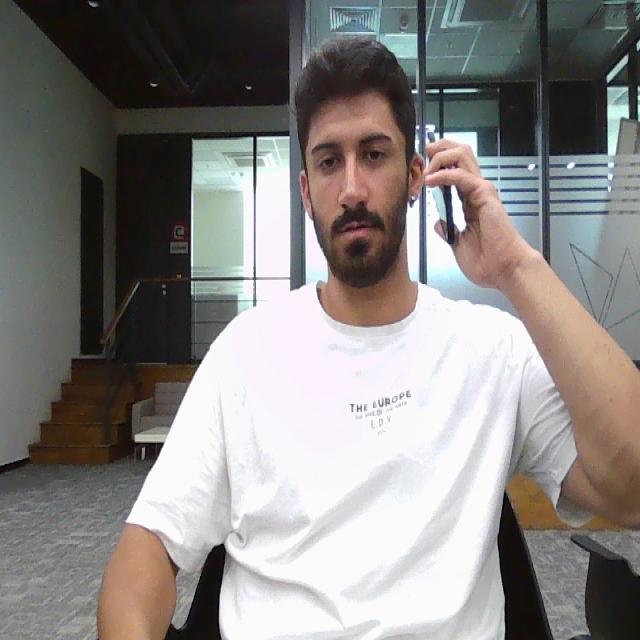phone: (422, 128, 457, 248)
